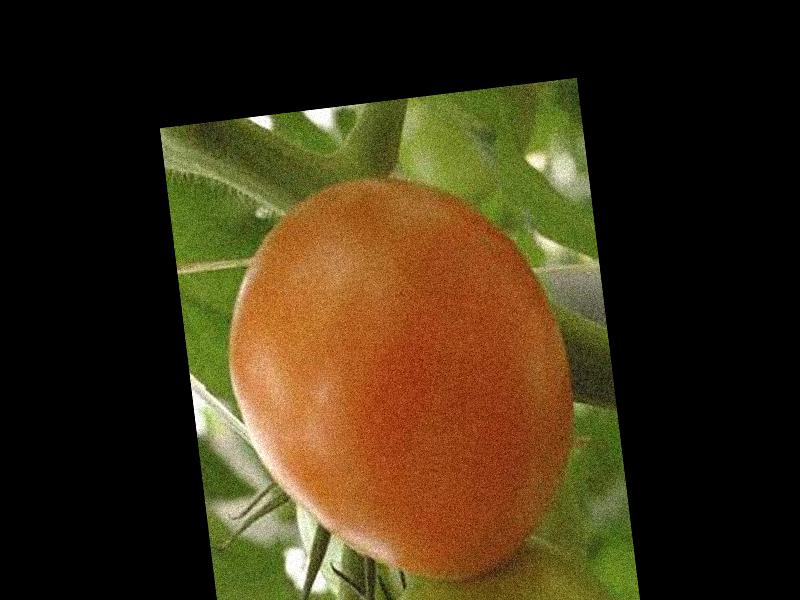Tomato: (207, 157, 592, 600)
